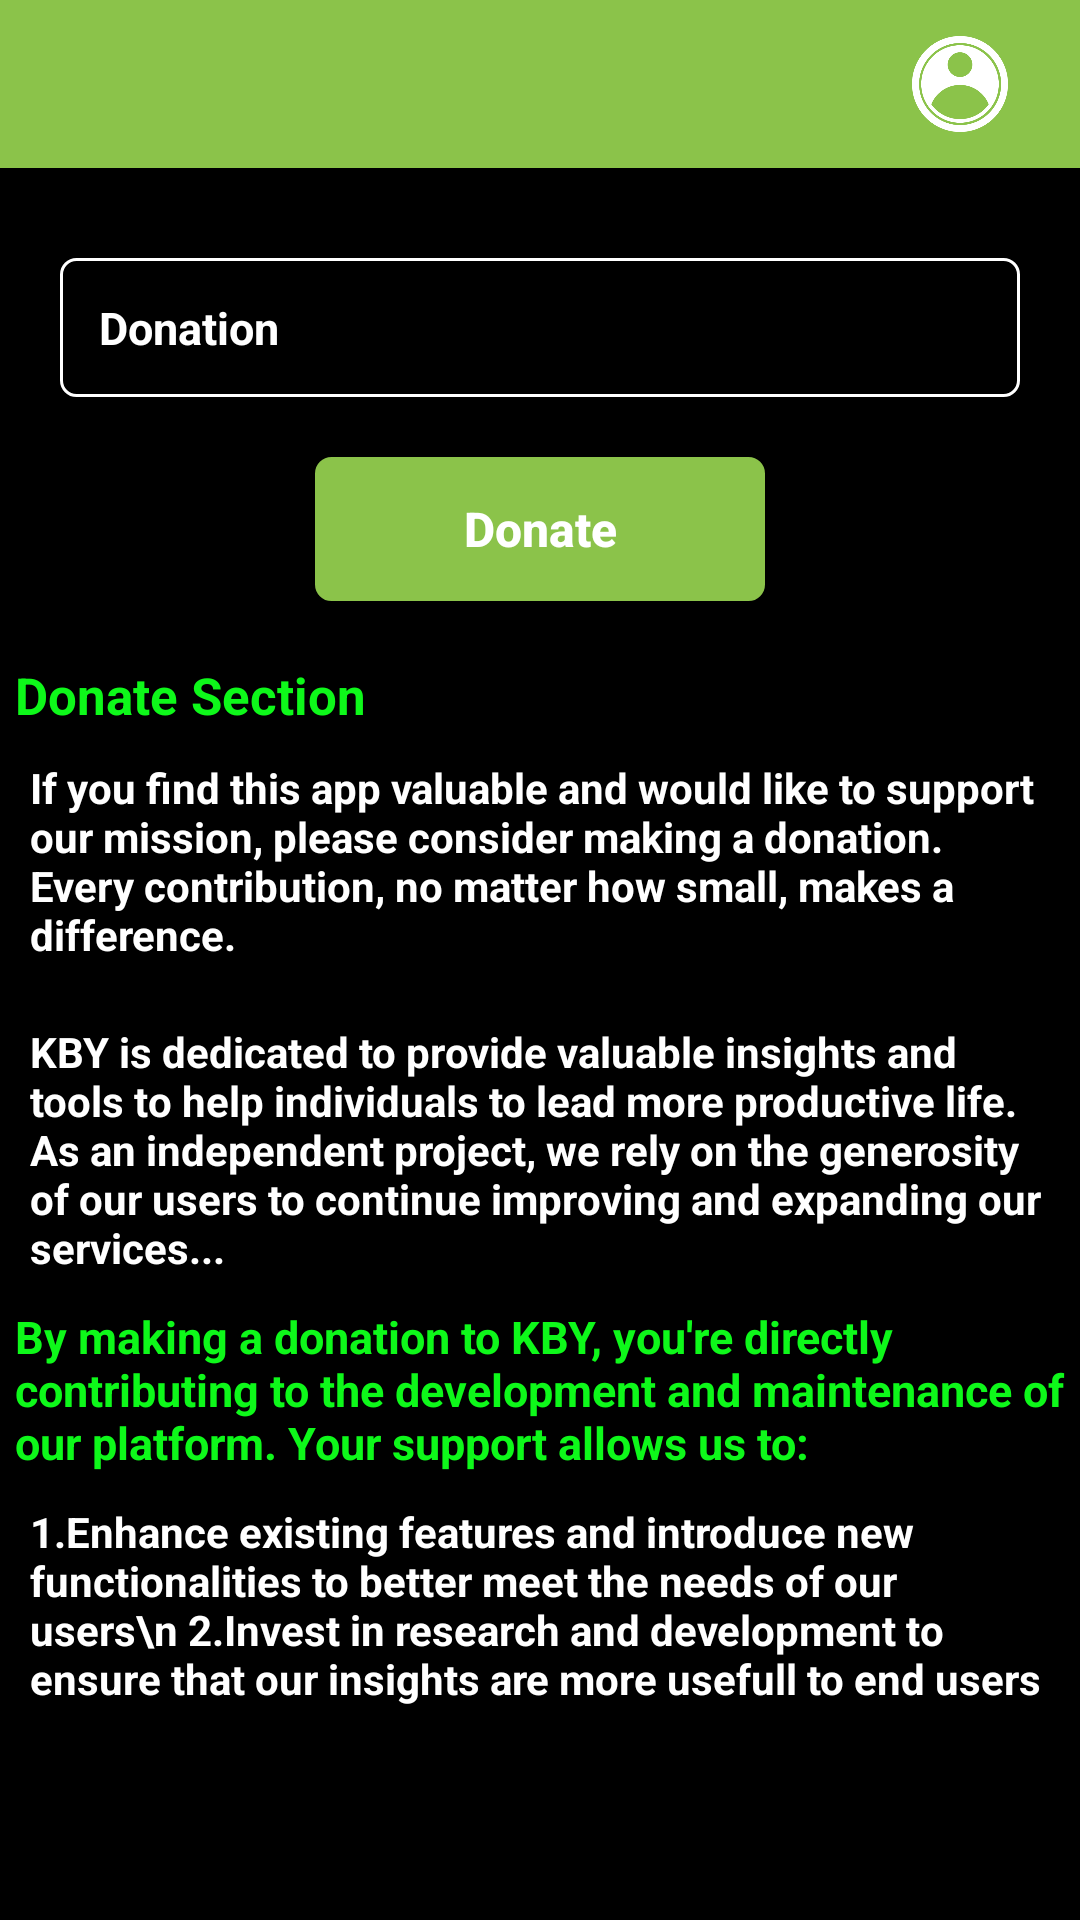

Icon bounding boxes for this 1080 x 1920 phone screenshot, format [x1,y1,x2,y2]:
userima: [912,36,1008,132]
